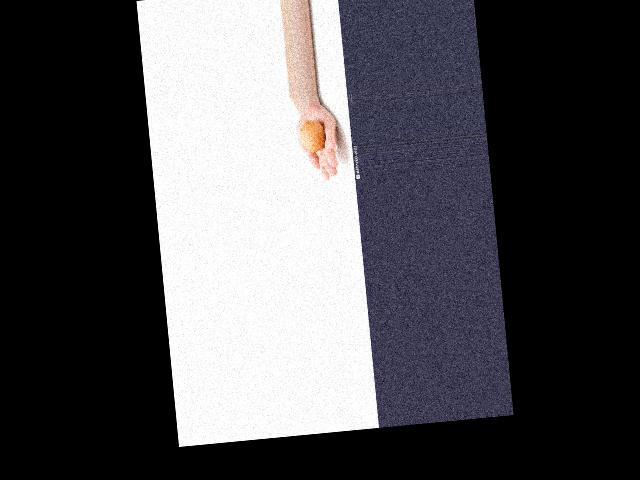egg: (299, 118, 326, 152)
